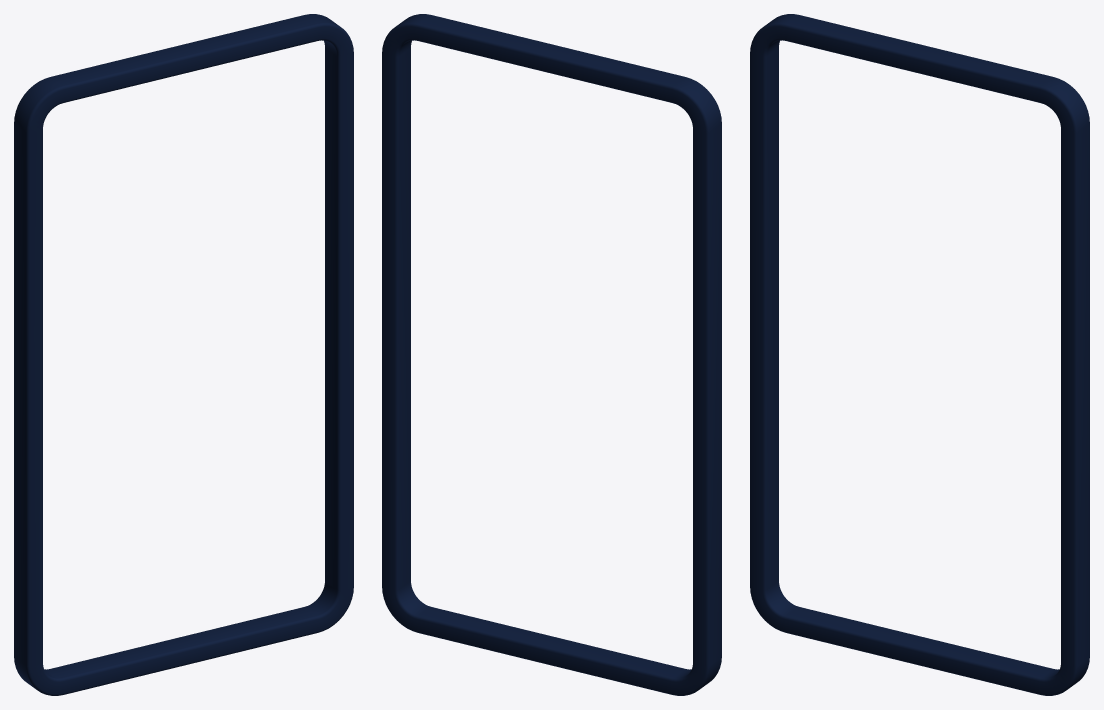
Rendered from marco-vertical-oscuro.glb.
3 renders of one model, left to right at view 1: azimuth 30°, elevation 25°; view 2: azimuth 150°, elevation 25°; view 3: azimuth 330°, elevation 25°, orthographic.
Visible parts, largest first — view 1: marco; view 2: marco; view 3: marco.
Boxes of the visible parts, bbox=[...] form: marco: bbox=[14, 14, 353, 695]; marco: bbox=[382, 14, 721, 695]; marco: bbox=[750, 14, 1089, 695].
Bounding box in the file's own units: 1.8 × 3.2 × 0.14.
